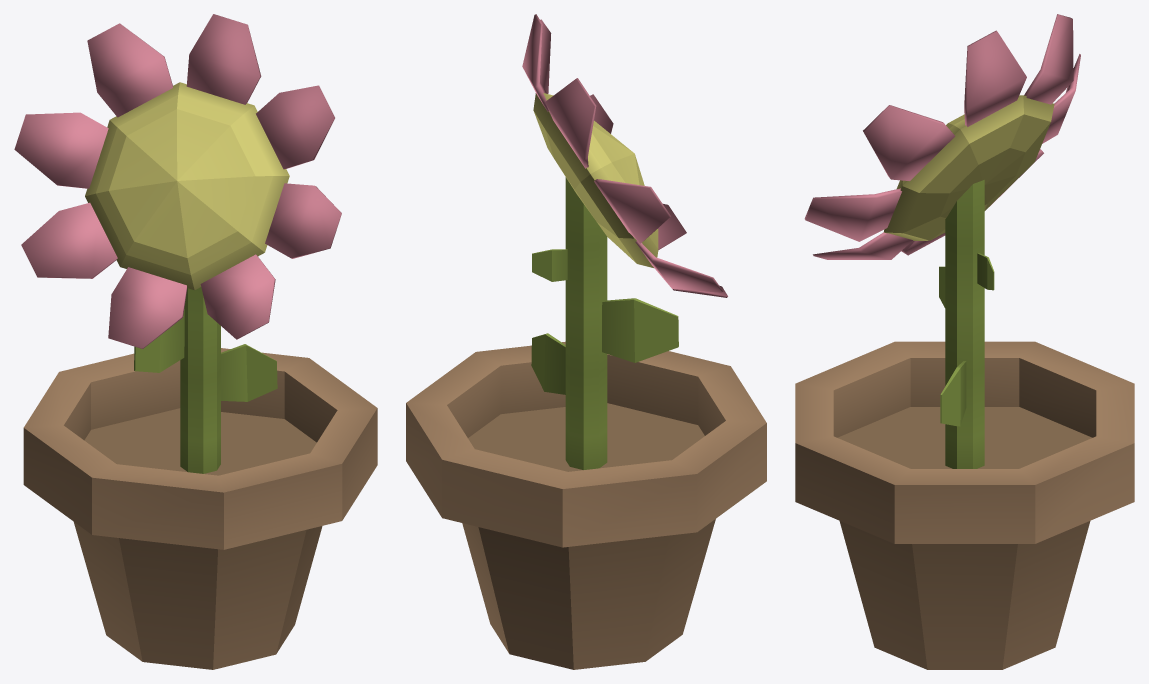
The picture shows the model from 3 angles, left to right: view 1: azimuth 30°, elevation 25°; view 2: azimuth 150°, elevation 25°; view 3: azimuth 270°, elevation 25°; orthographic projection. The views are drawn at different scales.
Visible parts, largest first — view 1: FlorMinimalista; view 2: FlorMinimalista; view 3: FlorMinimalista.
Part boxes in pixels (box(x1,y1,x2,y2)): FlorMinimalista: box(14, 14, 377, 669); FlorMinimalista: box(406, 14, 766, 669); FlorMinimalista: box(795, 14, 1134, 669).
Bounding box in the file's own units: 0.1777 × 0.3445 × 0.1721.
